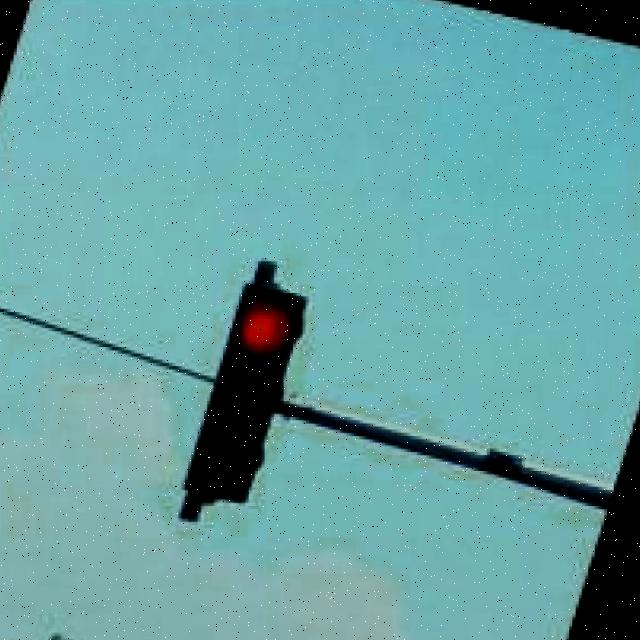Lampu Merah: (182, 274, 322, 509)
